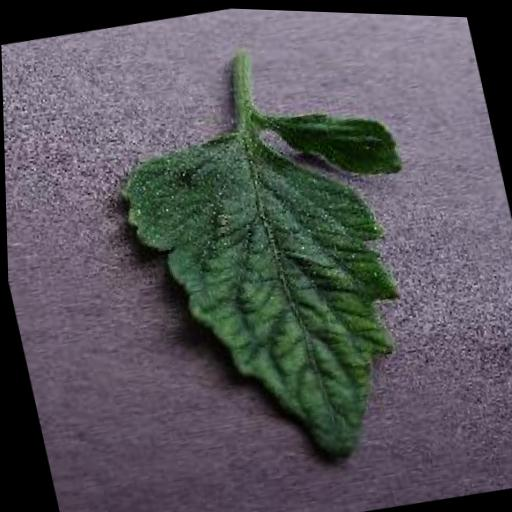Mosaic Virus: (102, 84, 464, 497)
